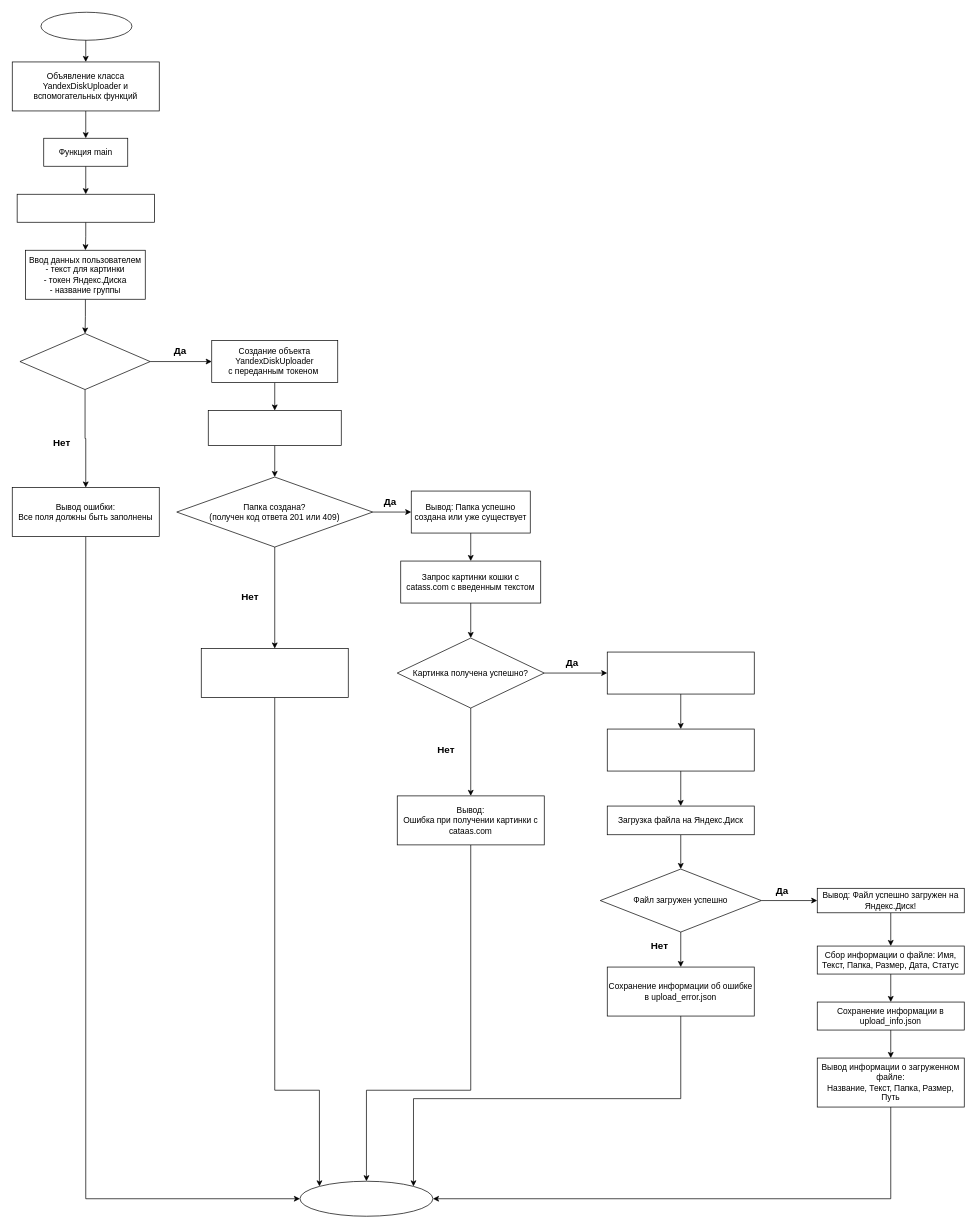
Image size: 977x1229. Some labels were removed from this diagram. Here are the shapes that lost their labels. From the top down, the centre of each, then its label:
point (86, 26): Начало
point (85, 208): Вывод заголовка "Резервное копирование кошек"
point (84, 361): Все поля заполнены?
point (274, 428): Запрос на создание папки на Яндекс.Диске с именем группы
point (274, 673): Вывод ошибки создания папки с кодом и описанием
point (680, 672): Обработка имени файла: удаление спецсимволов, замена пробелов на "_"
point (680, 749): Форматирование полного пути на Яндекс.Диске: group_name/filename.jpg
point (366, 1198): Конец
